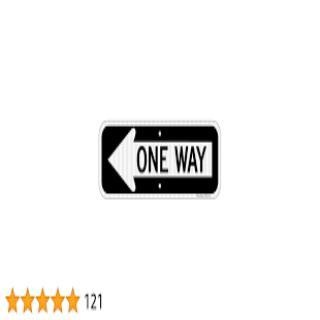sign_oneway_left: (99, 126, 218, 193)
